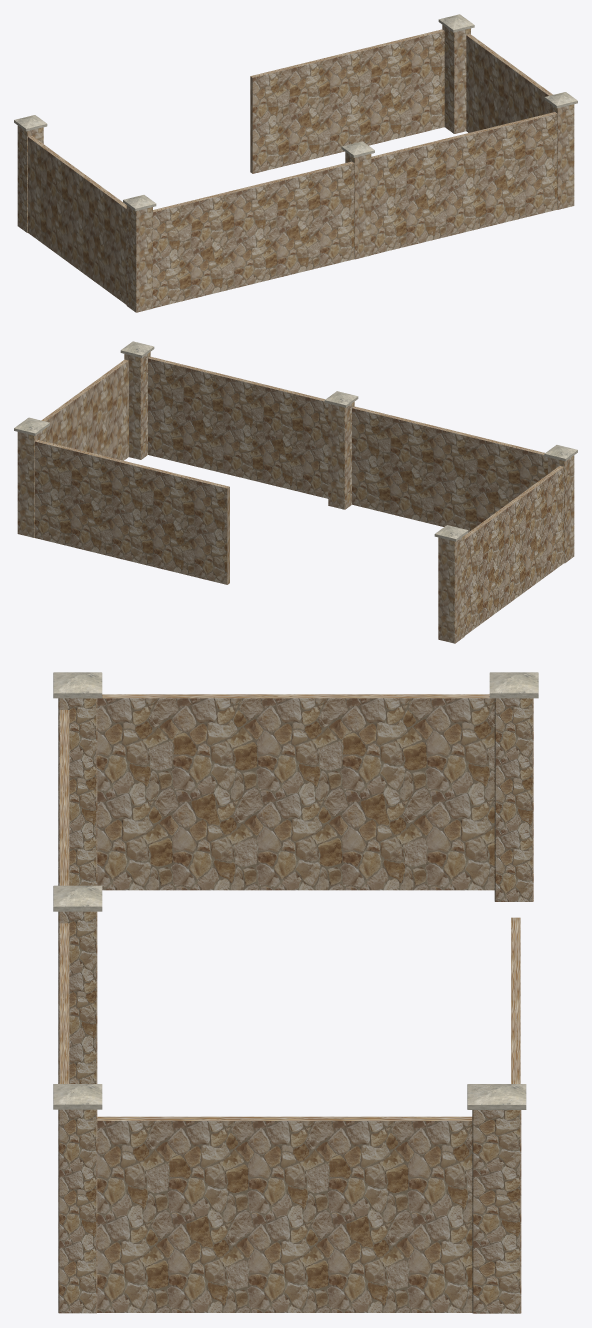
The model's file is Exterior.FBX.
3 views of the same model, one above another, from view 1: azimuth 30°, elevation 25°; view 2: azimuth 150°, elevation 25°; view 3: azimuth 270°, elevation 25° (orthographic). The views are drawn at different scales.
Parts seen in each view (by area): view 1: exterior; view 2: exterior; view 3: exterior.
Part boxes in pixels (box(x1,y1,x2,y2)): exterior: box(14, 14, 577, 312); exterior: box(14, 341, 577, 643); exterior: box(53, 672, 538, 1313).
Size of the model in its own units: 1043 by 246 by 495.
2 materials, 2 textured.
